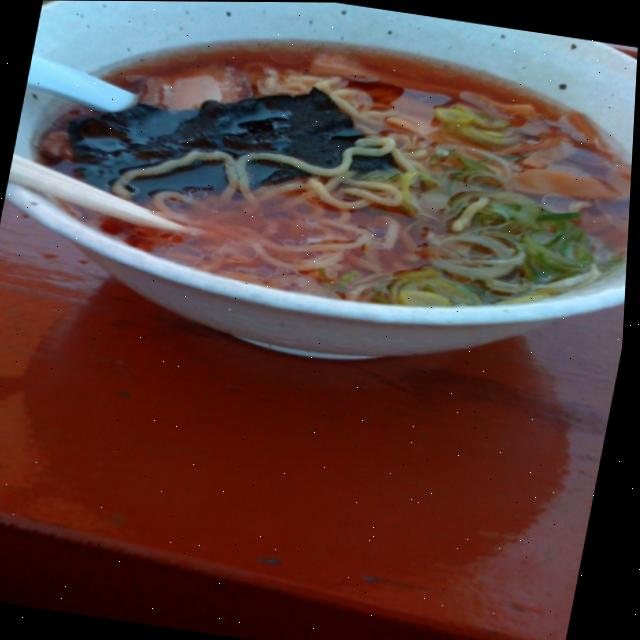面条主食: (0, 0, 640, 404)
